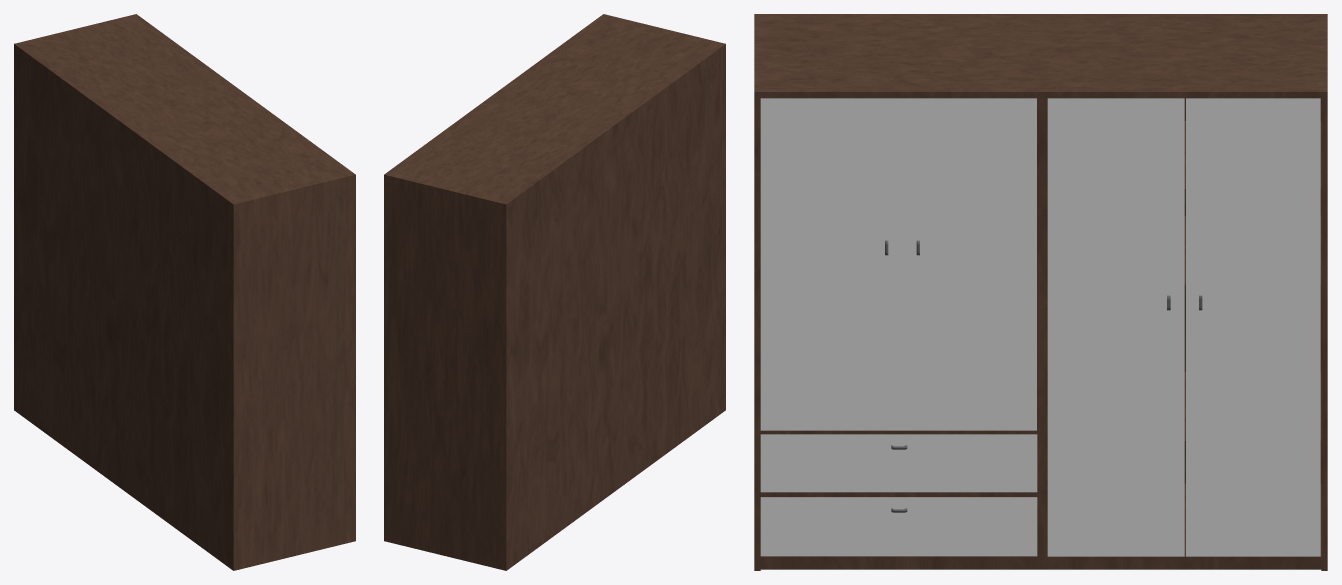
File: Wardrobe1.fbx
3 renders of one model, left to right at view 1: azimuth 30°, elevation 25°; view 2: azimuth 150°, elevation 25°; view 3: azimuth 270°, elevation 25°, orthographic. The views are drawn at different scales.
Parts seen in each view (by area): view 1: Wardrobe1; view 2: Wardrobe1; view 3: Wardrobe1, Drawer3, Drawer4, Drawer1, Drawer2.
Boxes of the visible parts, x1,y1,x2,y2 form: Wardrobe1: (14,14,355,570); Wardrobe1: (384,14,725,570); Wardrobe1: (754,14,1327,570); Drawer3: (1047,98,1184,556); Drawer4: (1186,98,1320,556); Drawer1: (760,98,899,430); Drawer2: (899,98,1036,430).
Bounding box in the file's own units: 0.9394 × 2.69 × 2.92.
